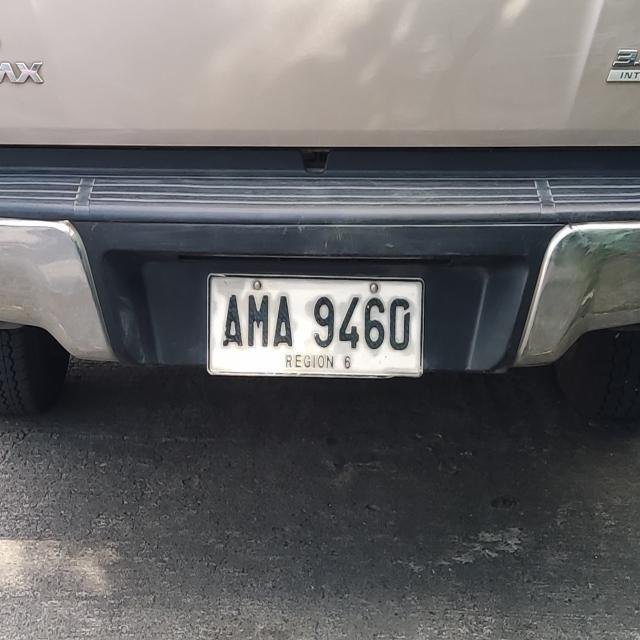LicensePlate: (200, 268, 431, 383)
